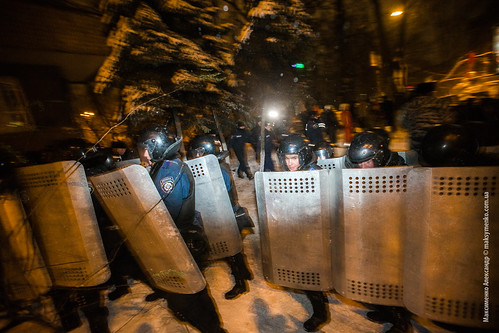policeman: (118, 126, 195, 333), (269, 140, 343, 333), (341, 138, 415, 331)
tree: (97, 1, 329, 113)
